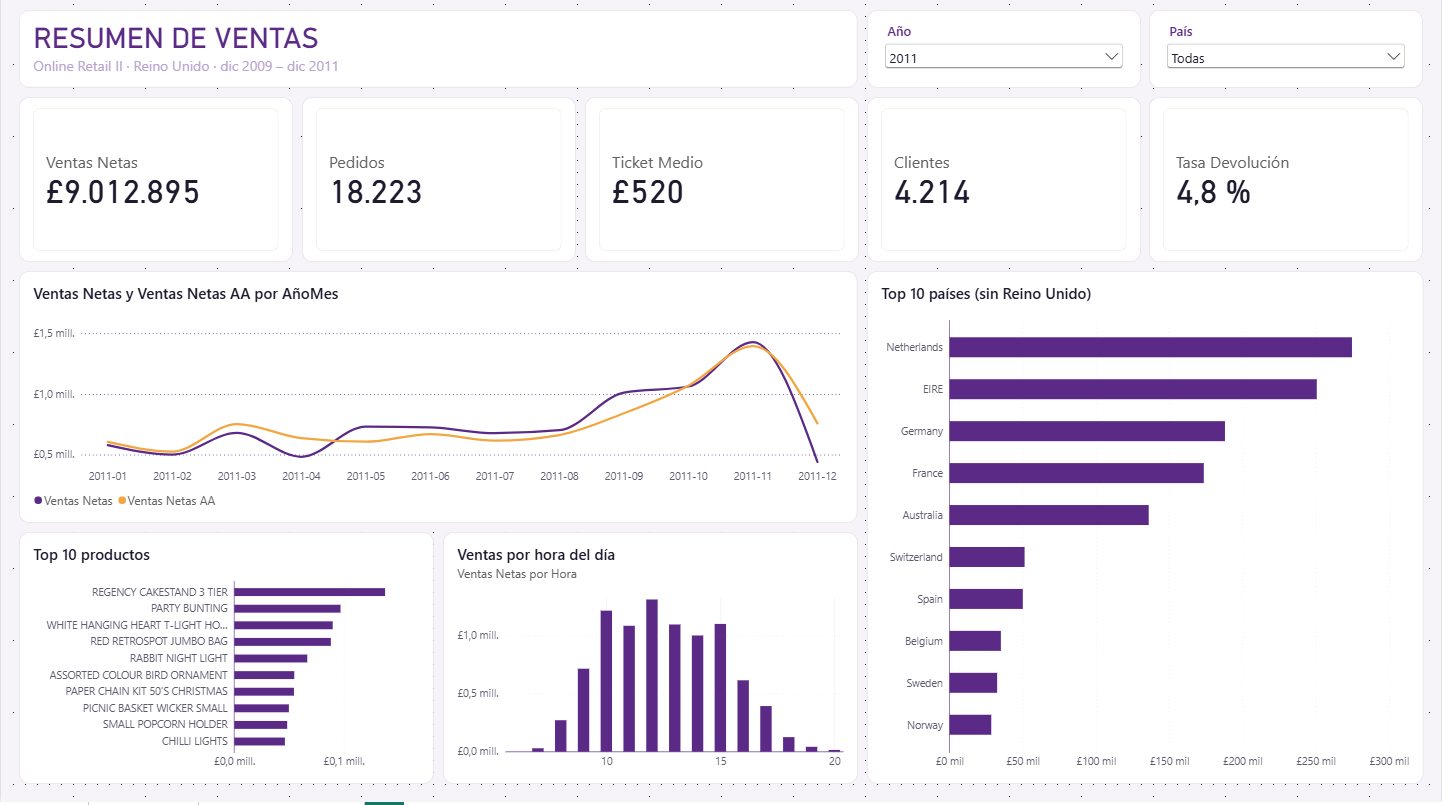

Layout of this report page (visuals, bound fields, positions):
{"tool":"powerbi","page":{"name":"Resumen de Ventas","canvas":[1920,1080],"ordinal":0},"visuals":[{"type":"cardVisual","fields":{"Data":["Medidas.Ventas Netas"]},"box":[24,140,365,220],"z":0},{"type":"cardVisual","fields":{"Data":["Medidas.Pedidos"]},"box":[401,140,365,220],"z":1000},{"type":"cardVisual","fields":{"Data":["Medidas.Clientes"]},"box":[1154,140,365,220],"z":2000},{"type":"cardVisual","fields":{"Data":["Medidas.Ticket Medio"]},"box":[778,140,365,220],"z":3000},{"type":"cardVisual","fields":{"Data":["Medidas.Tasa Devolución"]},"box":[1531,140,365,220],"z":4000},{"type":"lineChart","fields":{"Category":["dimCalendario.AñoMes"],"Y":["Medidas.Ventas Netas","Medidas.Ventas Netas AA"]},"box":[24,372,1118,336],"z":5000},{"type":"slicer","fields":{"Values":["dimCalendario.Año"]},"box":[1154,24,365,104],"z":6000},{"type":"clusteredBarChart","title":"Top 10 países (sin Reino Unido)","fields":{"Category":["factVentas.Country"],"Y":["Medidas.Ventas Netas"]},"box":[1154,372,742,684],"z":7000},{"type":"slicer","fields":{"Values":["factVentas.Country"]},"box":[1531,24,365,104],"z":8000},{"type":"clusteredBarChart","title":"Top 10 productos","fields":{"Category":["dimProducto.Descripcion"],"Y":["Medidas.Ventas Netas"]},"box":[24,720,553,336],"z":9000},{"type":"clusteredColumnChart","title":"Ventas por hora del día","fields":{"Category":["factVentas.Hora"],"Y":["Medidas.Ventas Netas"]},"box":[589,720,553,336],"z":10000},{"type":"textbox","title":"RESUMEN DE VENTAS","box":[24,24,1118,104],"z":11000}]}

Visuals, with their boxes in screenshot pixels (x1, y1, x2, y2), scaled from the page's 1920x1080 canvas onto the 1442x805 screenshot:
cardVisual - Medidas.Ventas Netas: 18,104,292,268
cardVisual - Medidas.Pedidos: 301,104,575,268
cardVisual - Medidas.Clientes: 867,104,1141,268
cardVisual - Medidas.Ticket Medio: 584,104,858,268
cardVisual - Medidas.Tasa Devolución: 1150,104,1424,268
lineChart - dimCalendario.AñoMes x Medidas.Ventas Netas: 18,277,858,528
slicer - dimCalendario.Año: 867,18,1141,95
"Top 10 países (sin Reino Unido)" clusteredBarChart: 867,277,1424,787
slicer - factVentas.Country: 1150,18,1424,95
"Top 10 productos" clusteredBarChart: 18,537,433,787
"Ventas por hora del día" clusteredColumnChart: 442,537,858,787
"RESUMEN DE VENTAS" textbox: 18,18,858,95
